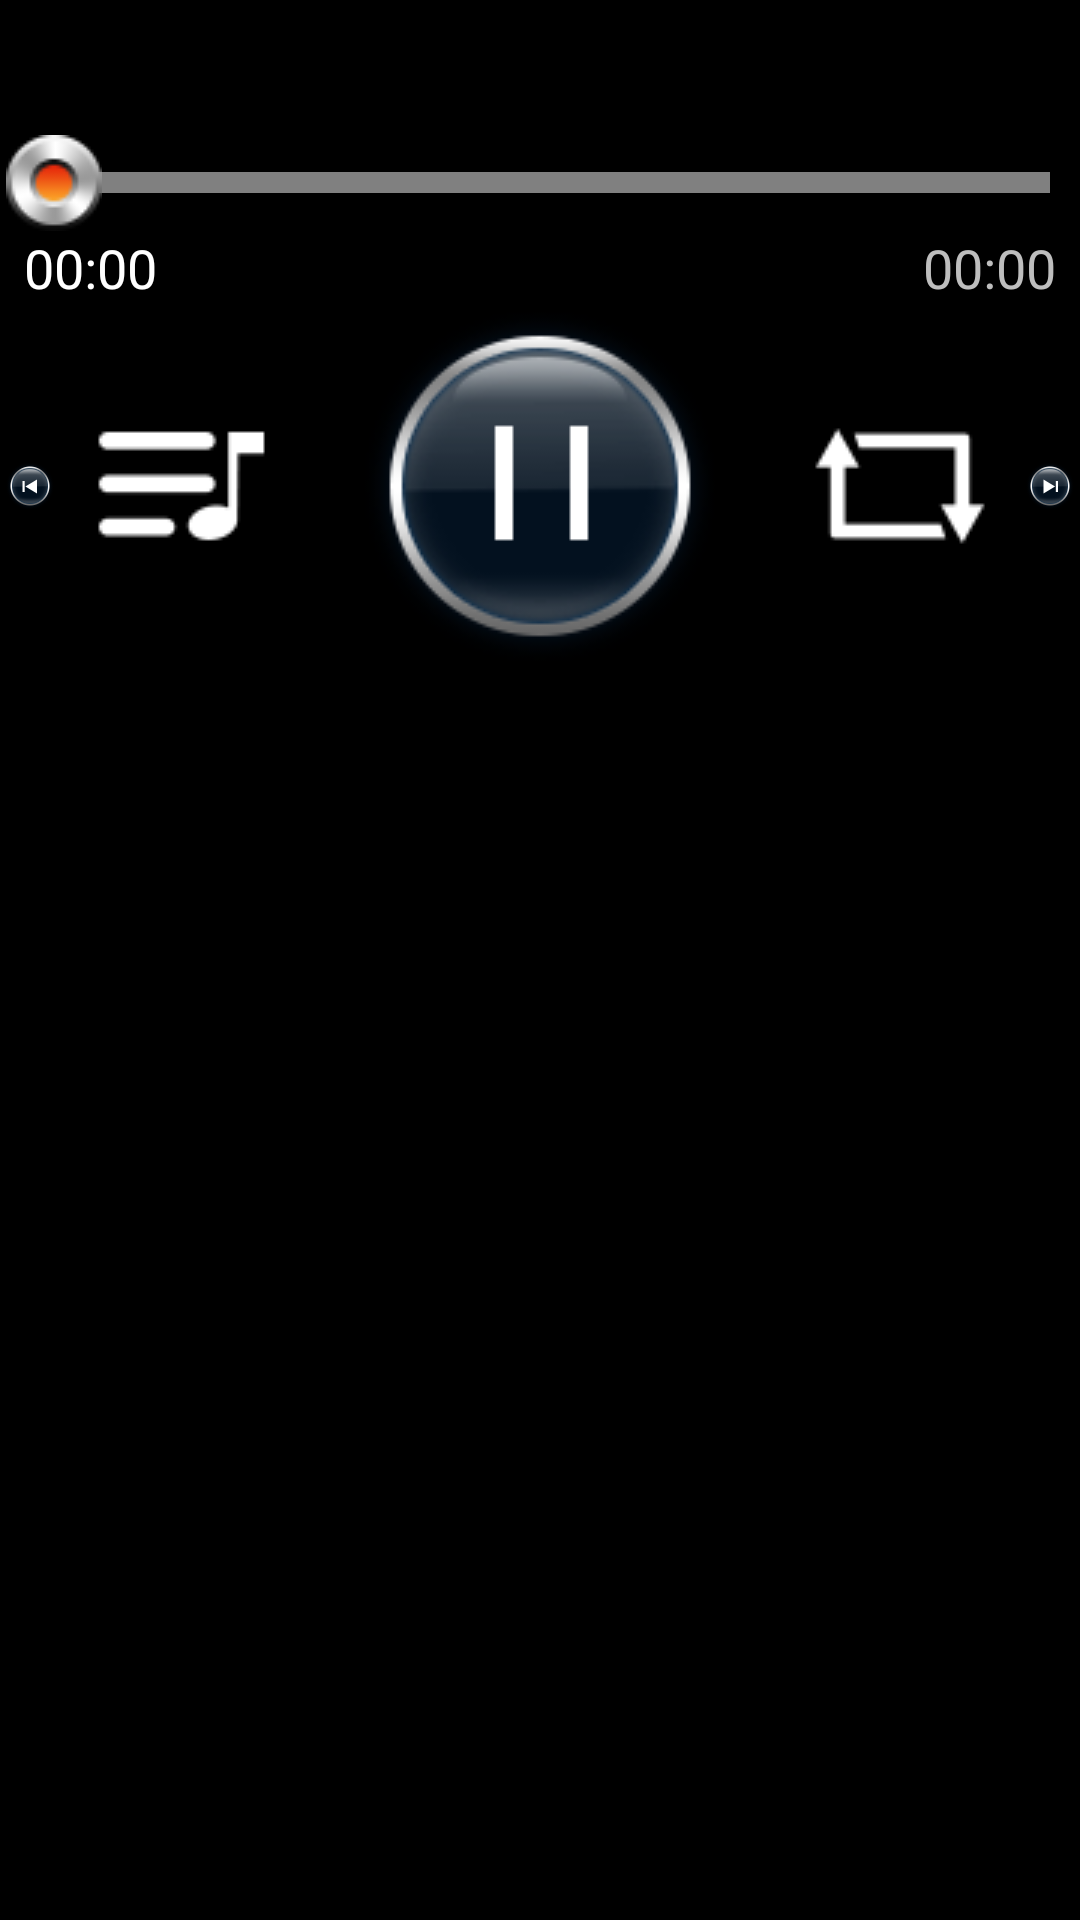

Named icons in this screenshot (1080 × 1920) and their bounding boxes, (x1, y1, x2, y2):
pause: (389, 335, 691, 637)
